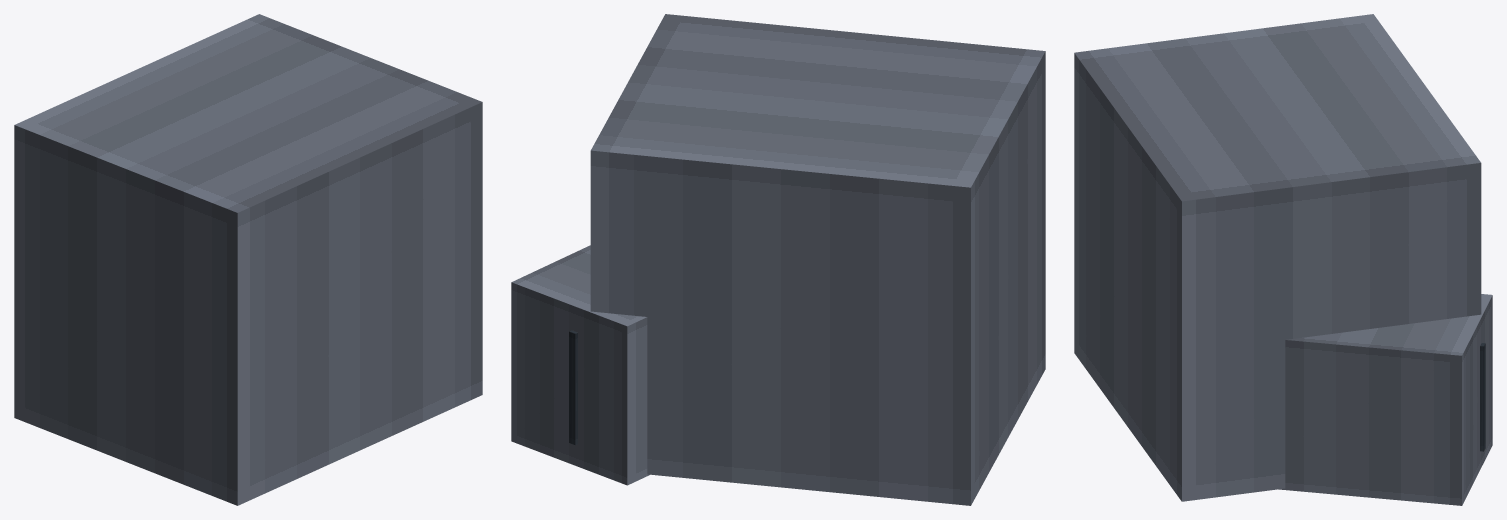
File: rock_large_forest.gltf
The picture shows the model from 3 angles, left to right: view 1: azimuth 30°, elevation 25°; view 2: azimuth 150°, elevation 25°; view 3: azimuth 270°, elevation 25°; orthographic projection. The views are drawn at different scales.
Visible parts, largest first — view 1: root_mesh; view 2: root_mesh; view 3: root_mesh.
Part boxes in pixels (x1=…): root_mesh: x1=14, y1=14, x2=482, y2=505; root_mesh: x1=511, y1=14, x2=1045, y2=505; root_mesh: x1=1074, y1=14, x2=1492, y2=505.
Size of the model in its own units: 2.14 by 1.58 by 1.99.
1 material, 1 textured.
